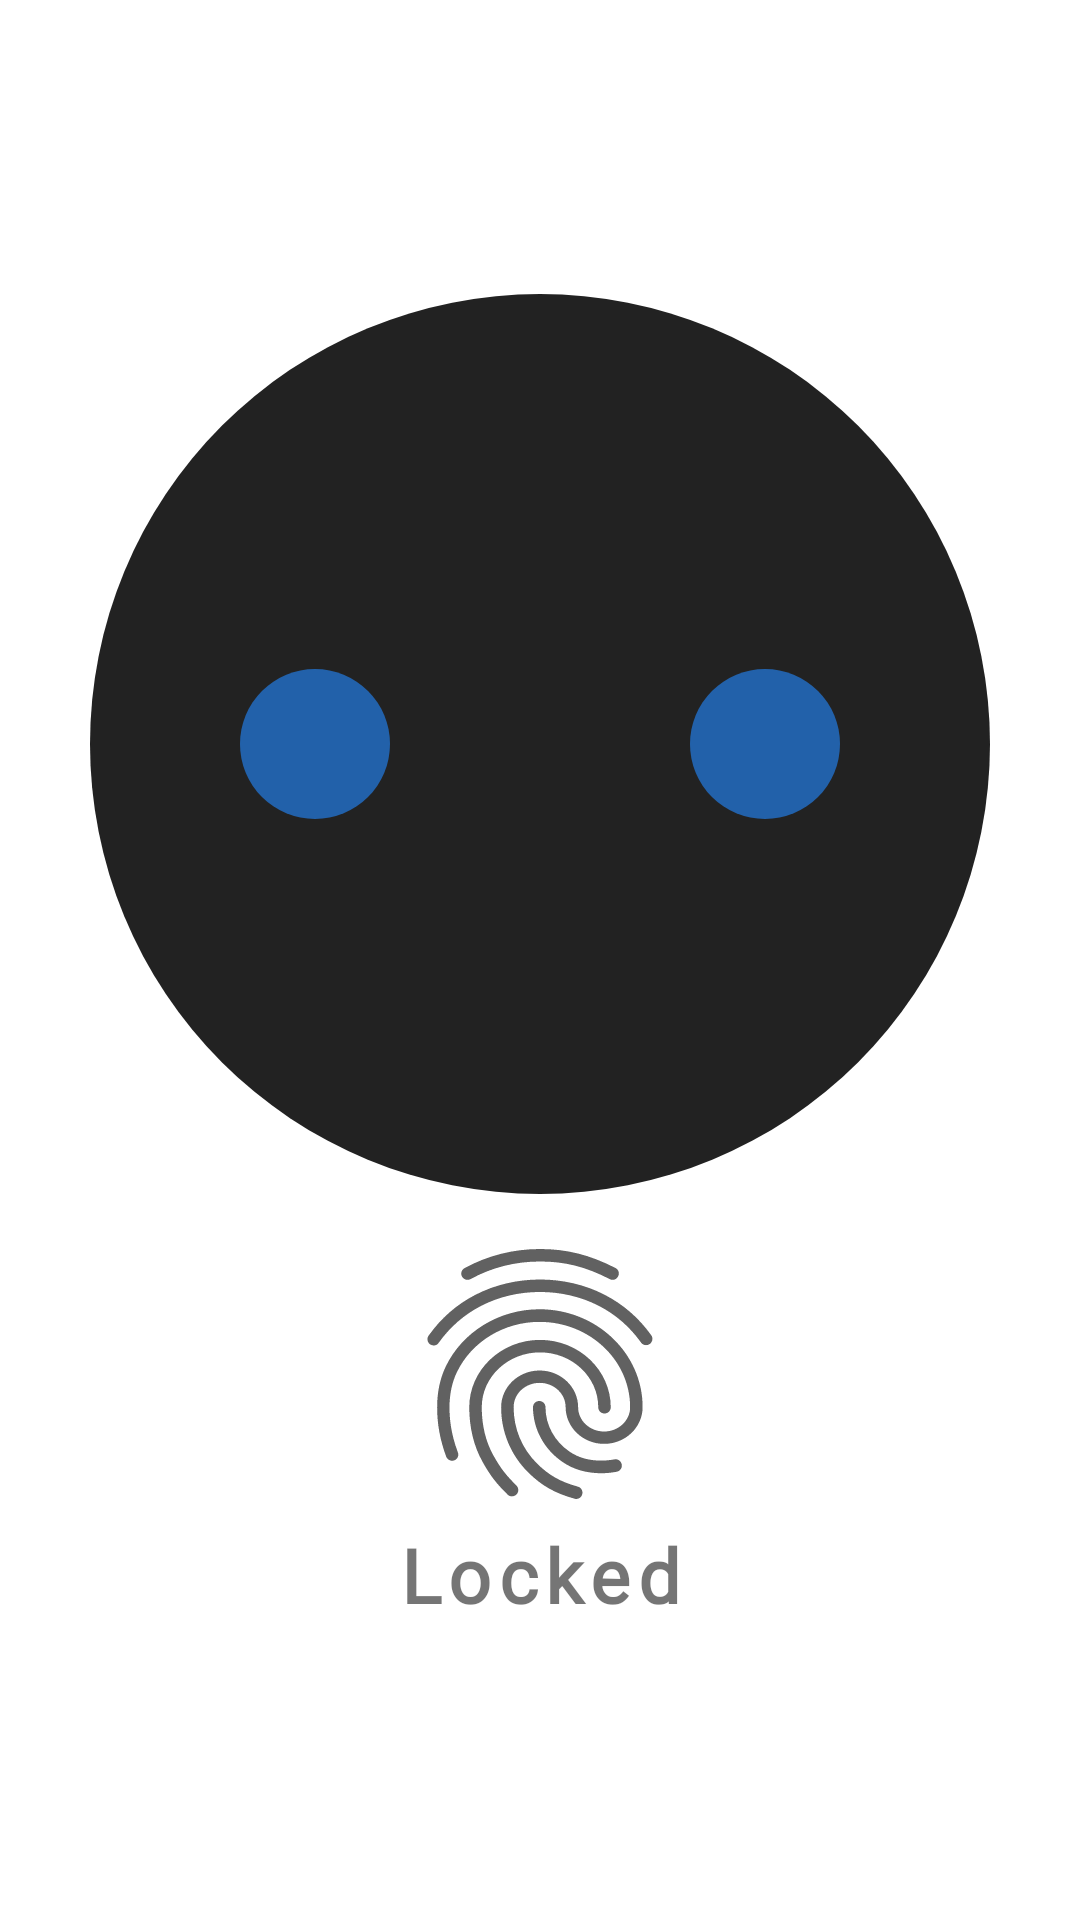

Icon click points for this 1080px×1920px phone screenshot, format (x,y):
fingerprint: (540,1374)
